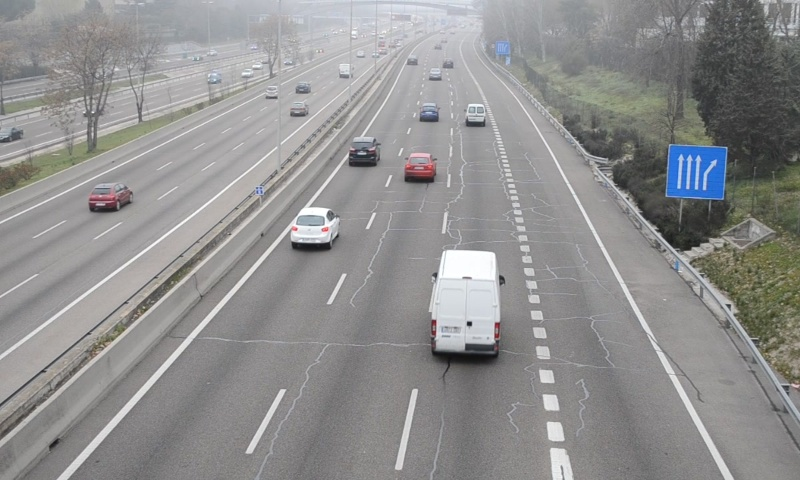car: (290, 206, 338, 244), (348, 136, 380, 164), (404, 153, 436, 180), (419, 103, 440, 120)
van: (431, 250, 501, 356), (465, 103, 487, 128)
